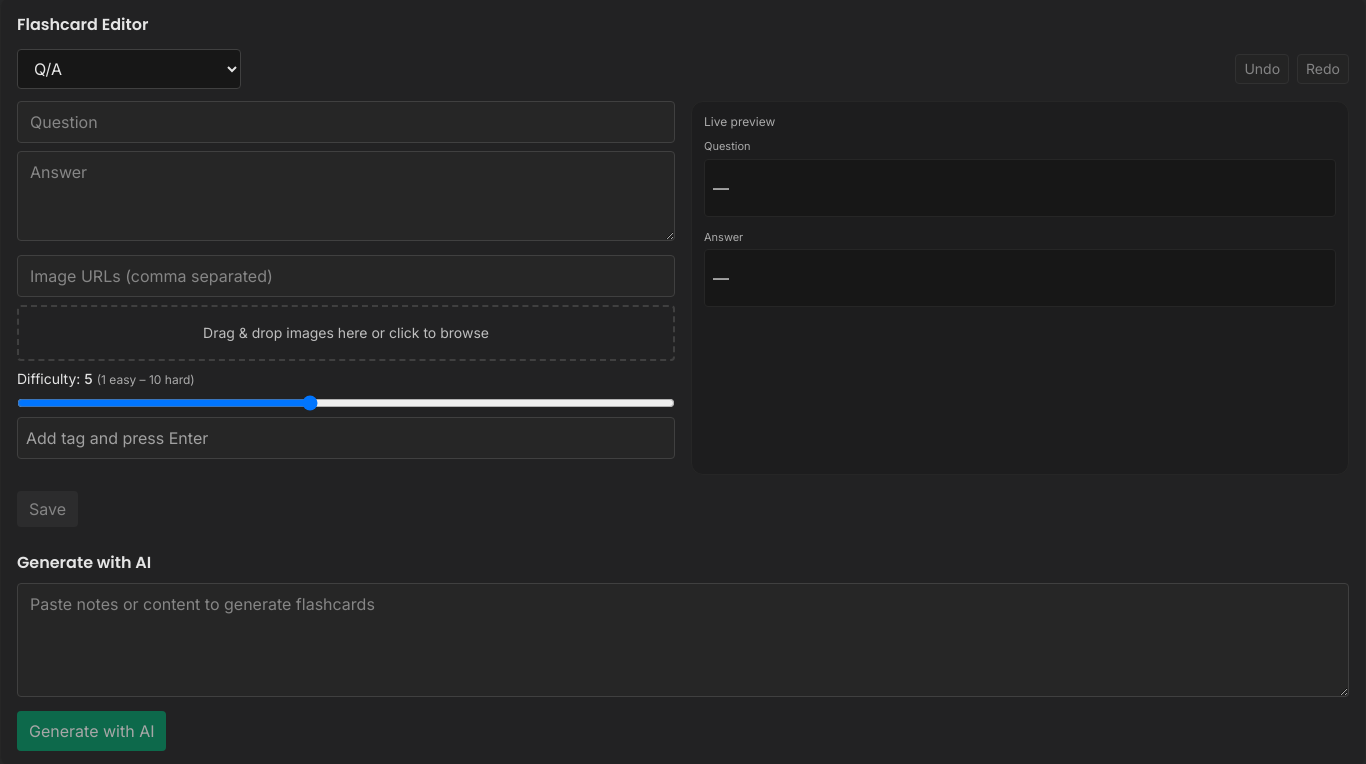
Test: FlashcardEditor › generates with AI and shows accept buttons
Type "some notes" into the text box named "AI input" at (683, 640), box [17,583,1349,697]
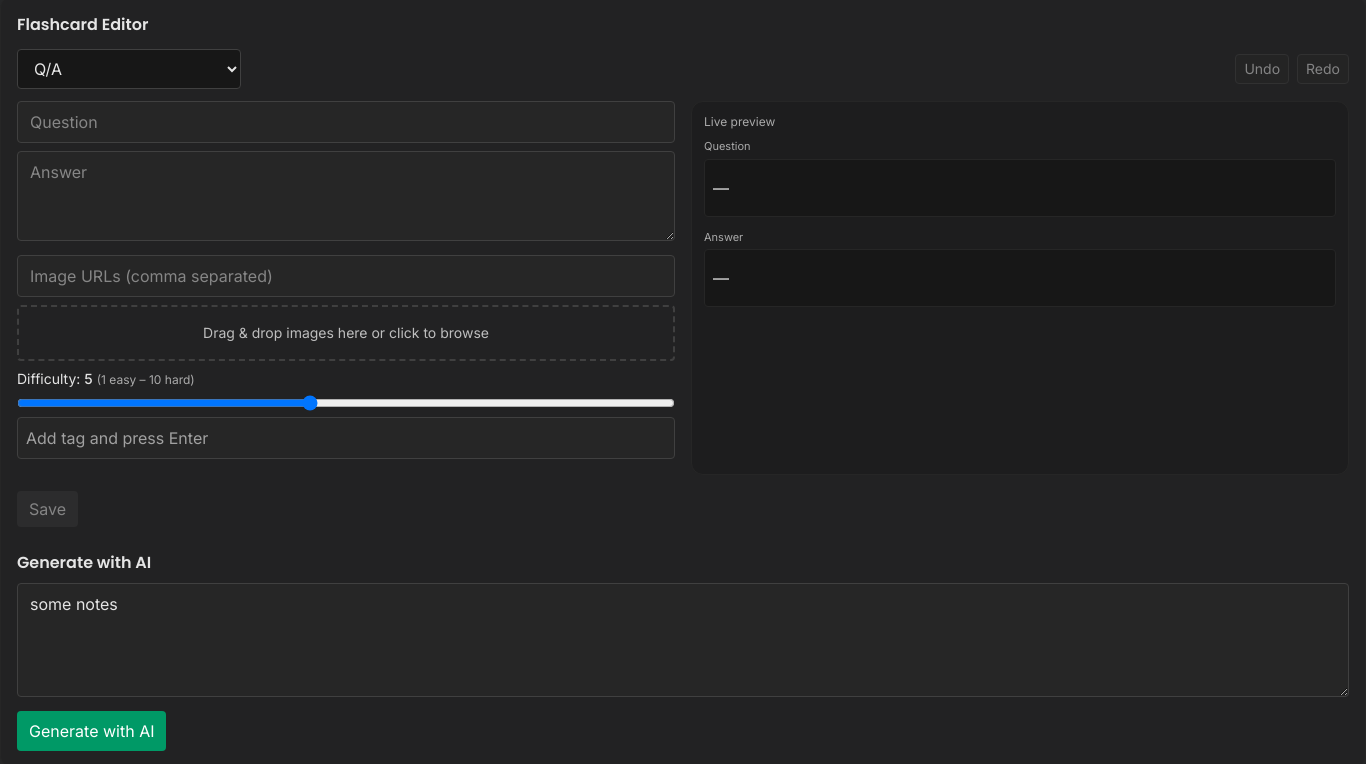
Click the button "Generate with AI" at (92, 731), box [17,711,166,751]
(page scrolled)
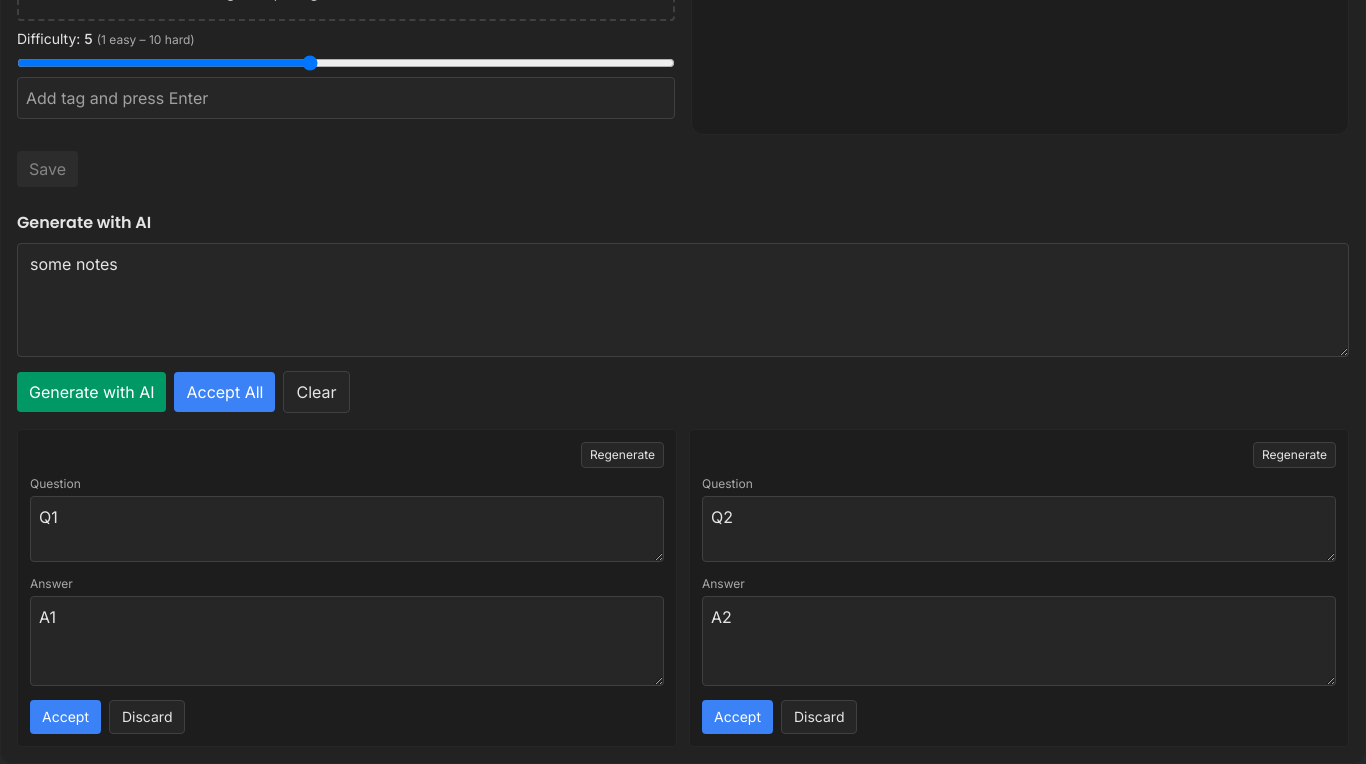
expect the 1st button "Accept" is shown: met, box [30,700,101,734]
